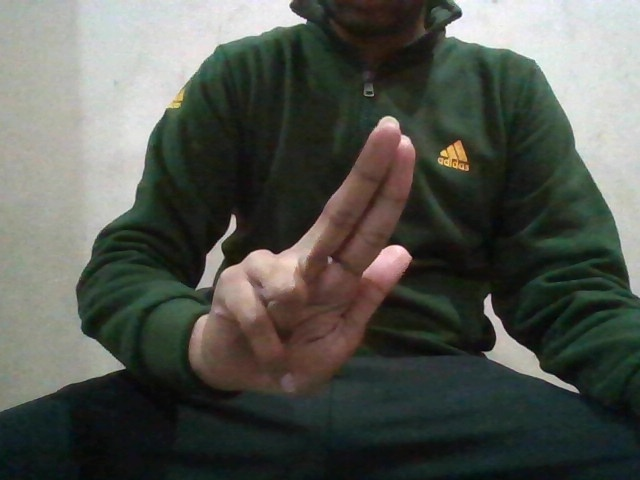K: (205, 108, 412, 404)
